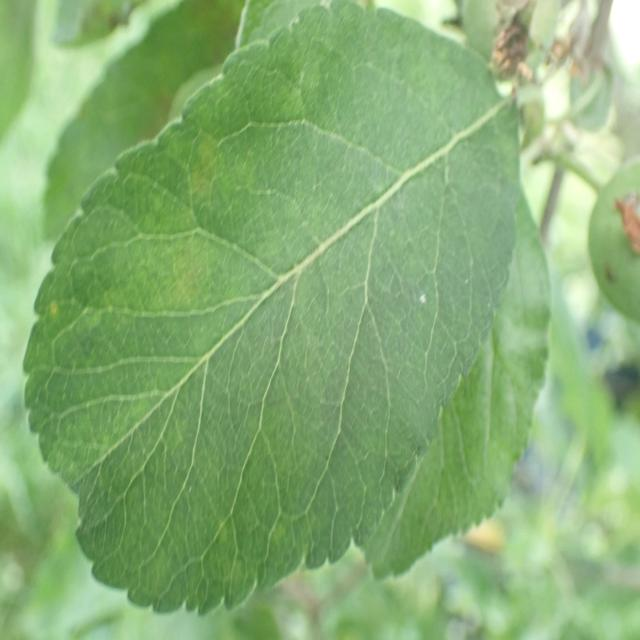scab: (35, 96, 542, 540)
